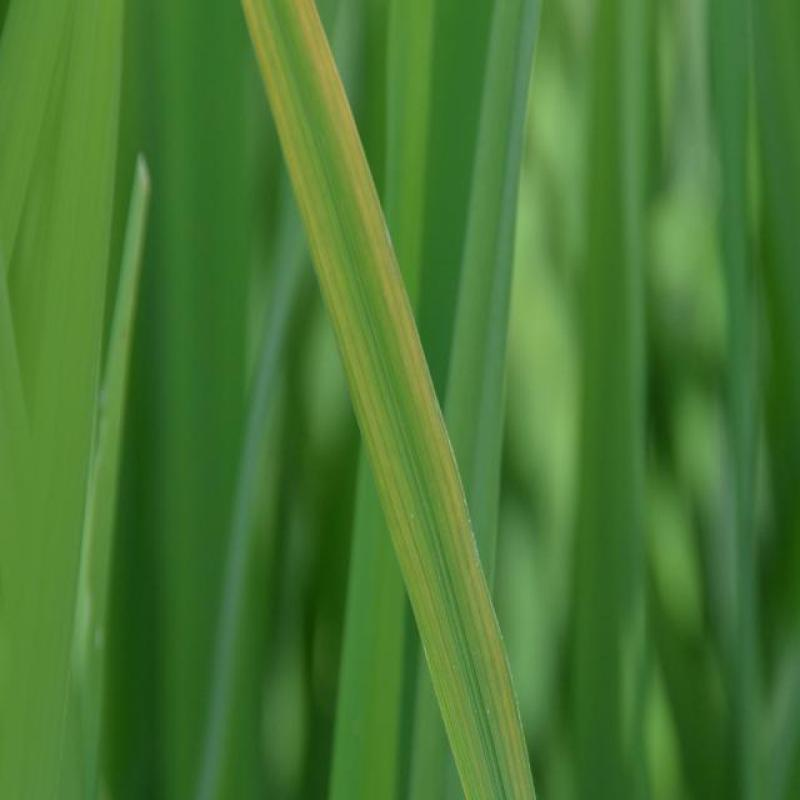Rice Tungro: (250, 24, 536, 795)
